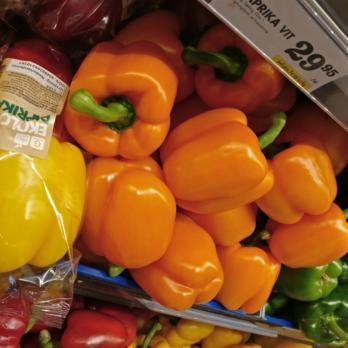Capsicum: (0, 119, 348, 348), (62, 26, 177, 163), (176, 28, 285, 115)
